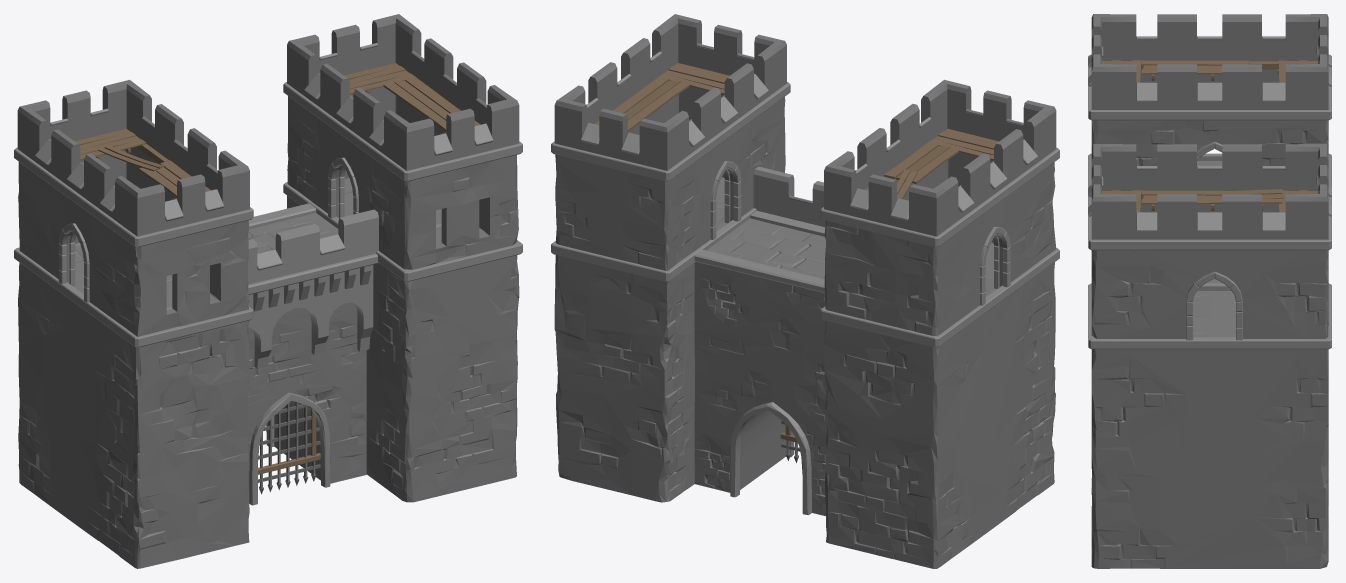
File: castle_gate_house_a.FBX
3 renders of one model, left to right at view 1: azimuth 30°, elevation 25°; view 2: azimuth 150°, elevation 25°; view 3: azimuth 270°, elevation 25°, orthographic.
Parts seen in each view (by area): view 1: castle_gate_house_a; view 2: castle_gate_house_a; view 3: castle_gate_house_a.
Boxes of the visible parts, bbox=[...] form: castle_gate_house_a: bbox=[14, 14, 522, 568]; castle_gate_house_a: bbox=[551, 14, 1059, 568]; castle_gate_house_a: bbox=[1088, 14, 1331, 568].
Bounding box in the file's own units: 14.33 × 13.18 × 7.84.
